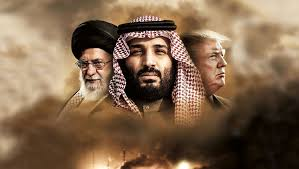middle_eastern_male: (124, 32, 173, 95)
